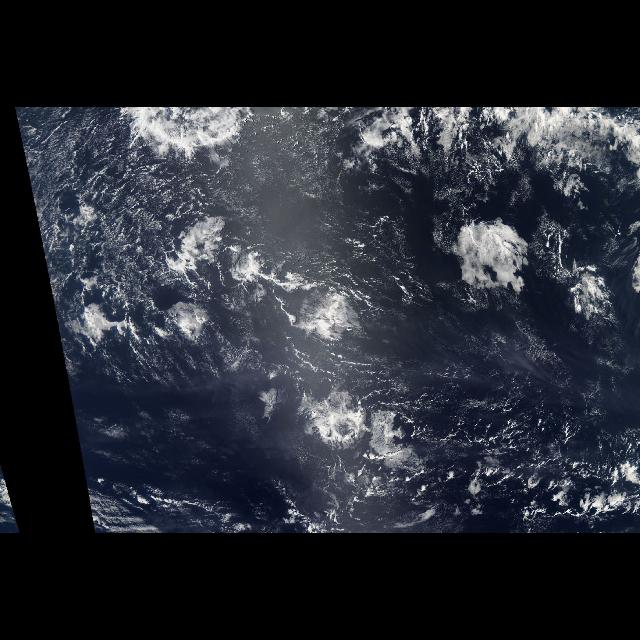Flower: (445, 196, 637, 364)
Gravel: (30, 114, 258, 414)
Sugar: (20, 145, 160, 311), (297, 110, 397, 222)
